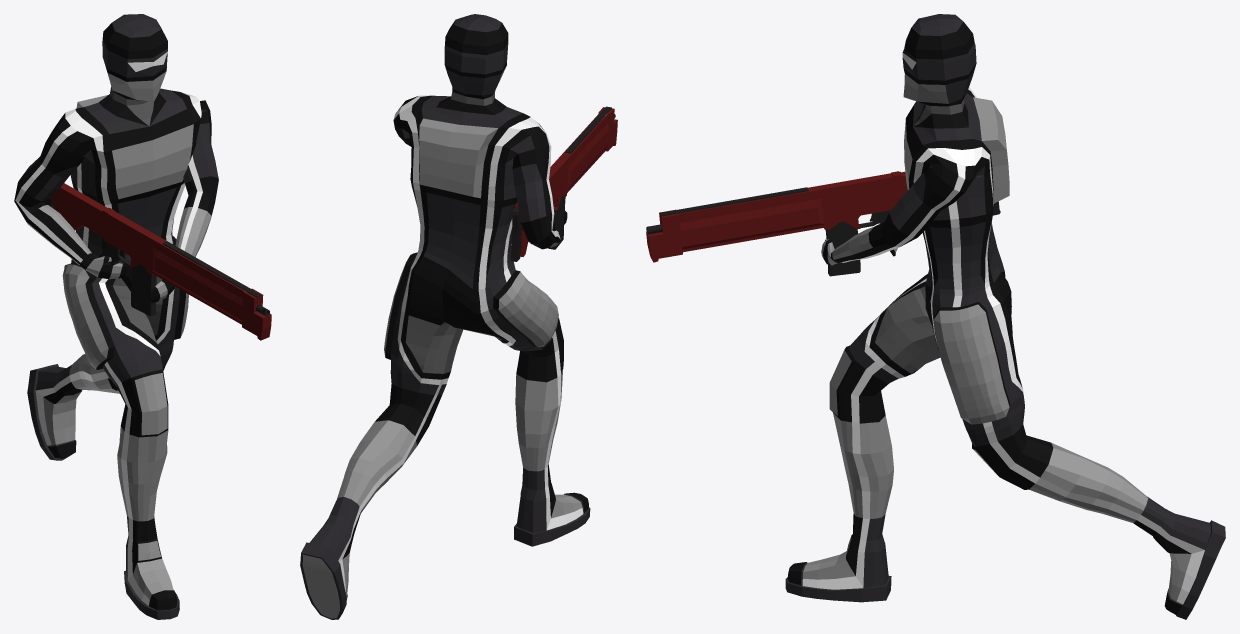
Rendered from MCR4.obj.
The picture shows the model from 3 angles, left to right: view 1: azimuth 30°, elevation 25°; view 2: azimuth 150°, elevation 25°; view 3: azimuth 270°, elevation 25°; orthographic projection. The views are drawn at different scales.
Parts seen in each view (by area): view 1: metarig_object_metarig_mesh, Cube.001; view 2: metarig_object_metarig_mesh, Cube.001; view 3: metarig_object_metarig_mesh, Cube.001.
Boxes of the visible parts, x1,y1,x2,y2 form: metarig_object_metarig_mesh: (14, 14, 218, 619); Cube.001: (43, 183, 271, 340); metarig_object_metarig_mesh: (300, 14, 590, 619); Cube.001: (510, 106, 617, 261); metarig_object_metarig_mesh: (785, 14, 1225, 619); Cube.001: (646, 171, 1000, 276).
Bounding box in the file's own units: 0.5375 × 1.6 × 1.42.
2 materials, 2 textured.
